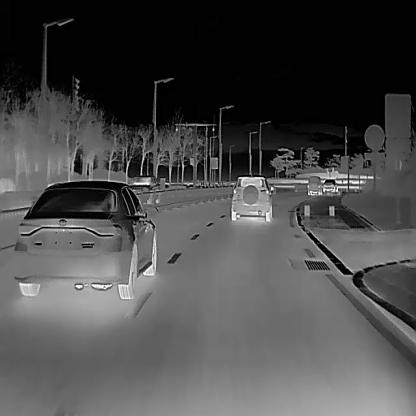car: (12, 178, 156, 299), (230, 174, 274, 221), (126, 173, 158, 193), (306, 174, 322, 193), (322, 179, 338, 189)
